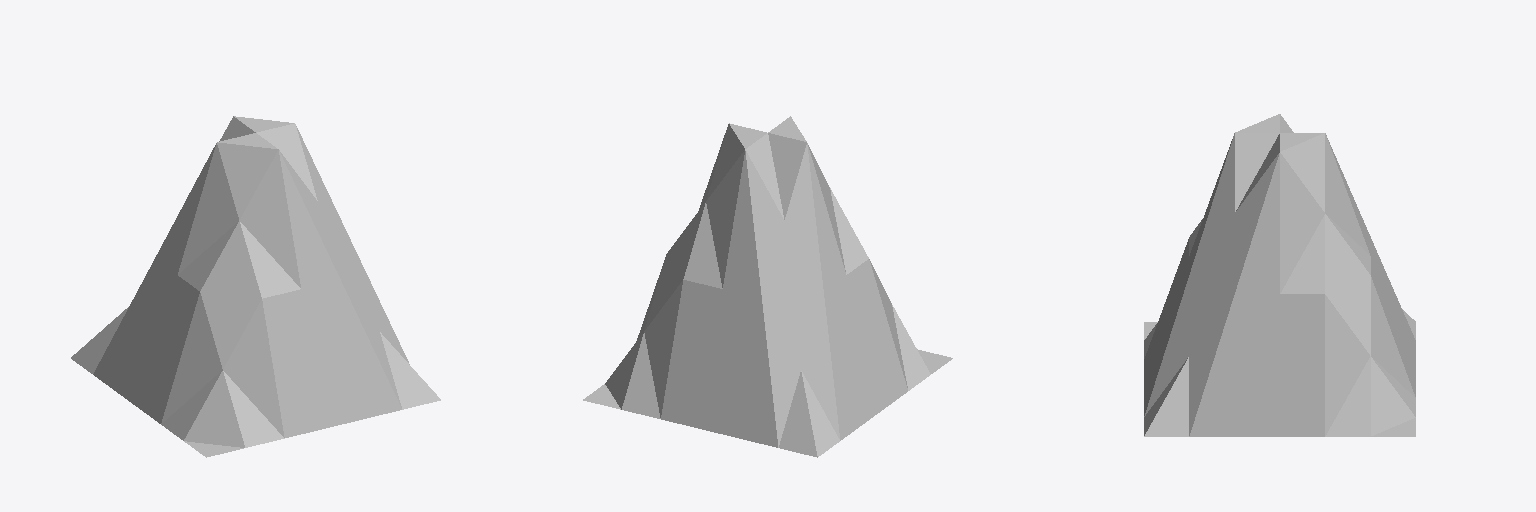
File: Colline.obj
3 renders of one model, left to right at view 1: azimuth 30°, elevation 25°; view 2: azimuth 150°, elevation 25°; view 3: azimuth 270°, elevation 25°, orthographic.
Visible parts, largest first — view 1: Cube_Cube.002; view 2: Cube_Cube.002; view 3: Cube_Cube.002.
Part boxes in pixels (bbox=[...]): Cube_Cube.002: bbox=[71, 116, 440, 457]; Cube_Cube.002: bbox=[583, 116, 952, 457]; Cube_Cube.002: bbox=[1144, 114, 1415, 436].
Bounding box in the file's own units: 2 × 2 × 2.